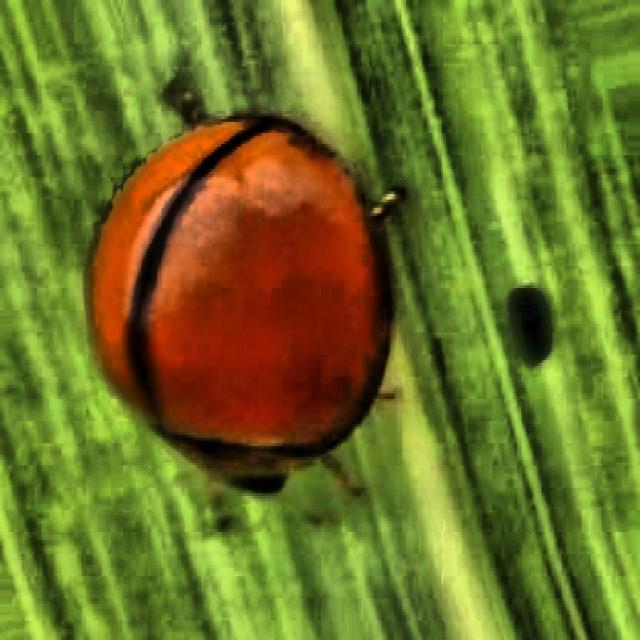Ladybug: (82, 43, 430, 522)
